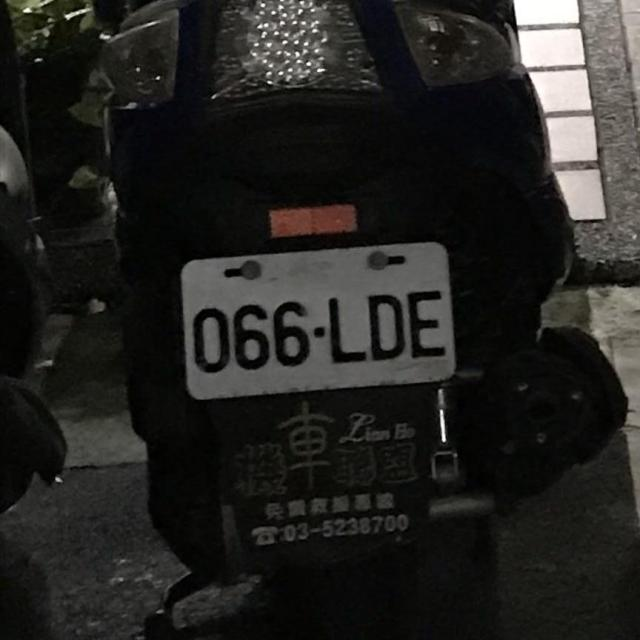W: (170, 223, 466, 411)
